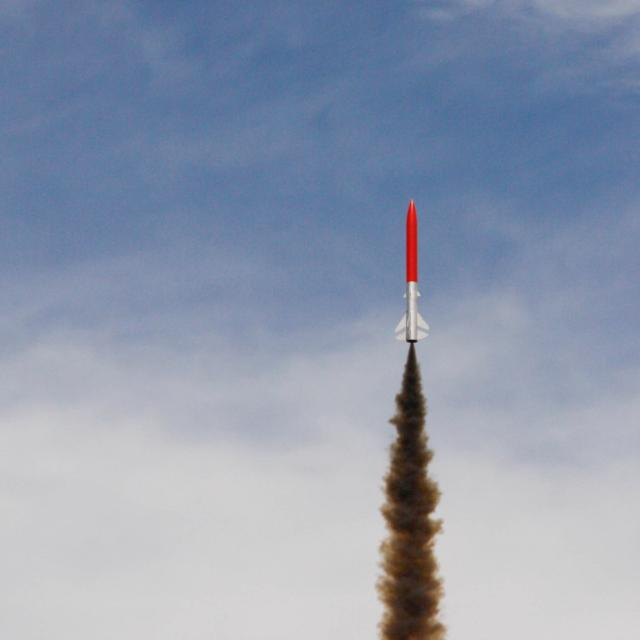Rocket: (392, 196, 432, 344)
